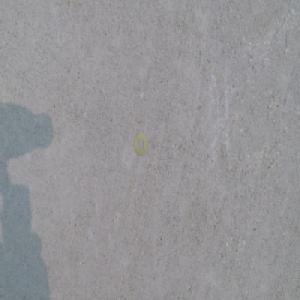Washer: (134, 133, 148, 158)
